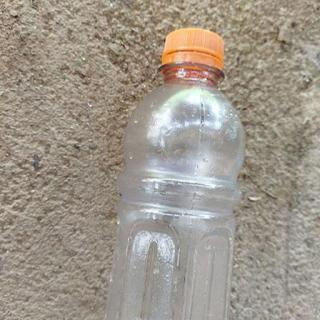Plastic-bottle: (105, 27, 249, 320)
